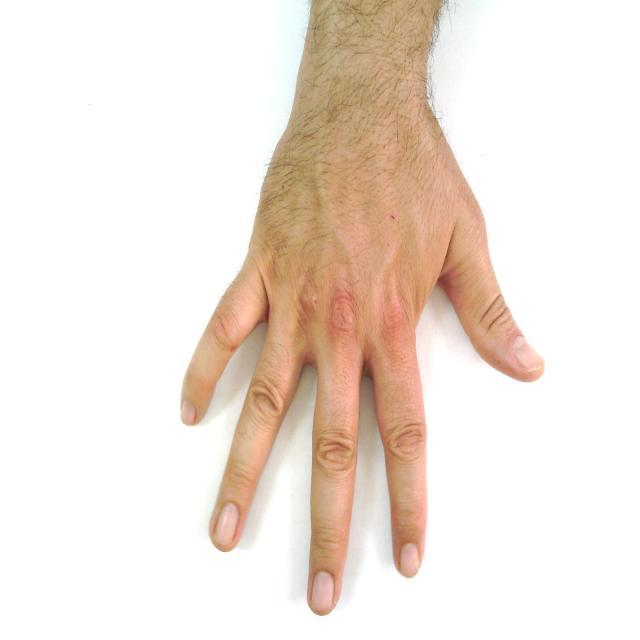Fingernail: (513, 337, 544, 371), (214, 503, 238, 545), (312, 570, 334, 611), (400, 544, 419, 578), (180, 403, 196, 426)
